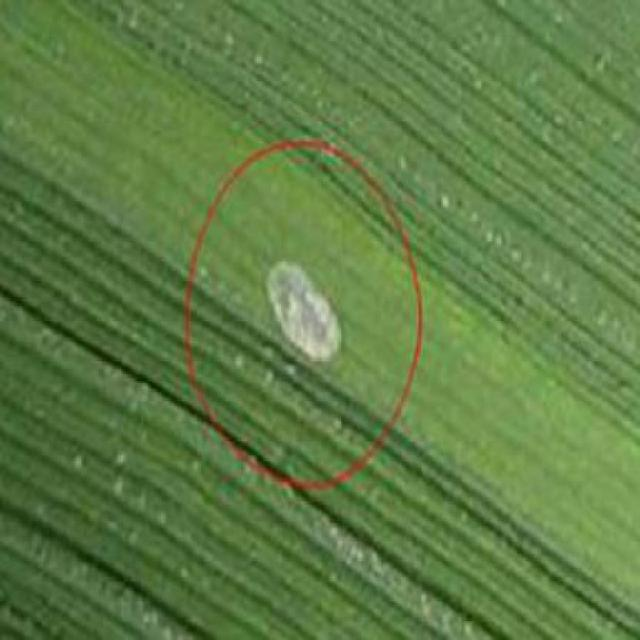leaf-folder: (259, 234, 347, 386)
